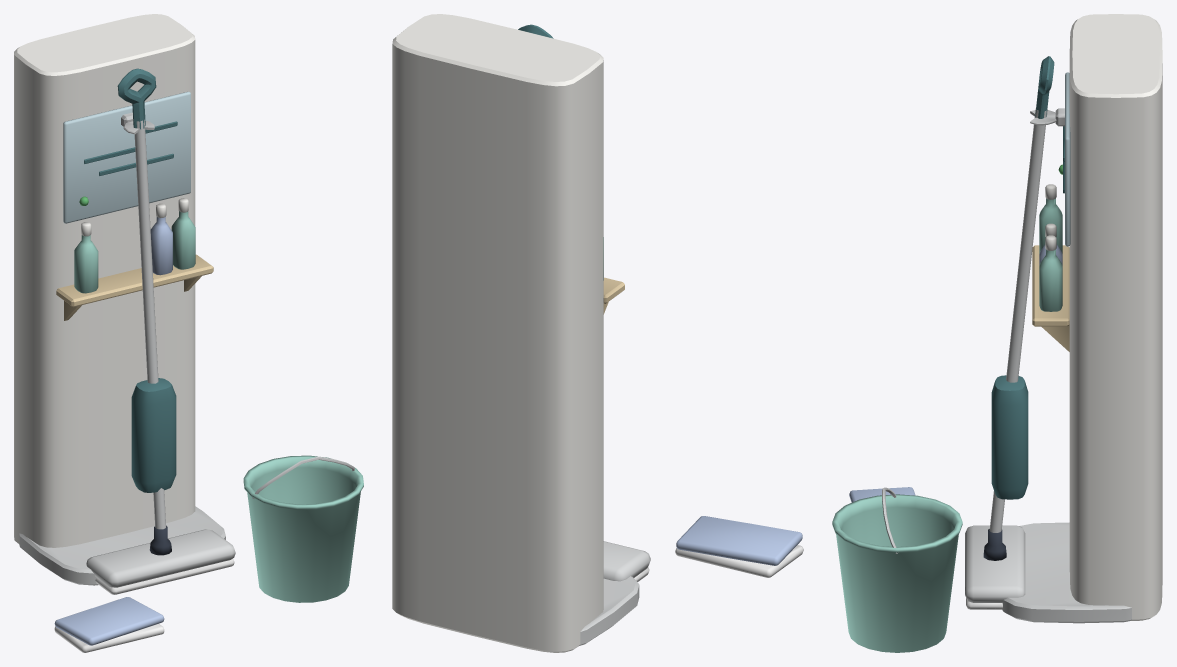
Rendered from steamMopDock.glb.
3 renders of one model, left to right at view 1: azimuth 30°, elevation 25°; view 2: azimuth 150°, elevation 25°; view 3: azimuth 270°, elevation 25°, orthographic. The views are drawn at different scales.
Parts seen in each view (by area): view 1: body, mop; view 2: body, mop; view 3: body, mop.
Boxes of the visible parts, x1,y1,x2,y2 form: body: (14, 14, 363, 652); mop: (86, 68, 235, 594); body: (392, 14, 803, 652); mop: (518, 24, 650, 581); body: (832, 14, 1162, 652); mop: (965, 56, 1054, 609).
Bounding box in the file's own units: 0.7876 × 1.25 × 0.71.
